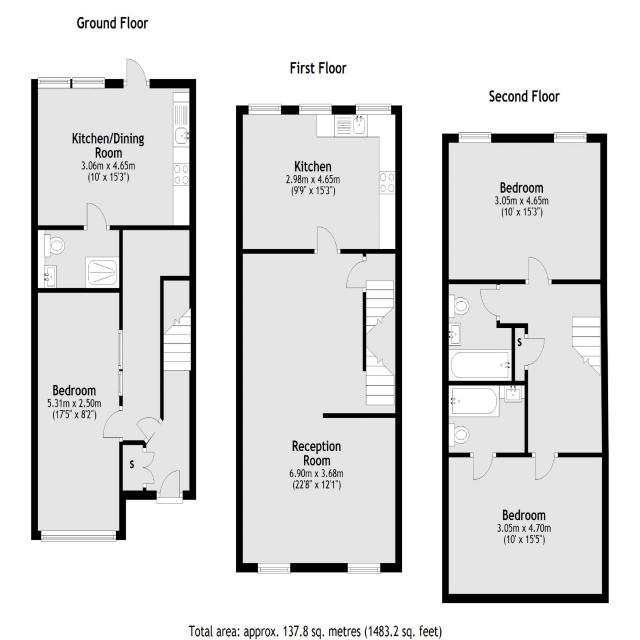DOOR: (125, 57, 149, 88), (527, 254, 550, 285), (534, 451, 557, 482), (316, 225, 339, 255), (478, 287, 501, 317), (86, 200, 108, 231), (345, 259, 367, 290), (159, 469, 181, 499), (524, 337, 546, 367), (472, 451, 494, 481), (136, 416, 161, 442), (103, 410, 123, 438)
ROOM: (236, 225, 403, 575), (30, 56, 196, 231), (441, 452, 609, 604), (442, 131, 608, 284), (236, 103, 402, 254), (31, 288, 126, 542)
WINDOW: (41, 530, 117, 542), (71, 76, 106, 90), (355, 103, 392, 116), (37, 76, 71, 90), (458, 131, 493, 144), (553, 131, 588, 144), (299, 103, 333, 116), (347, 562, 381, 575), (257, 562, 291, 575), (248, 103, 282, 115), (118, 329, 123, 370), (118, 370, 123, 397)
